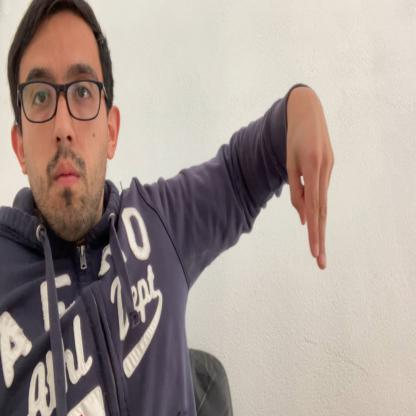N: (285, 92, 334, 270)
